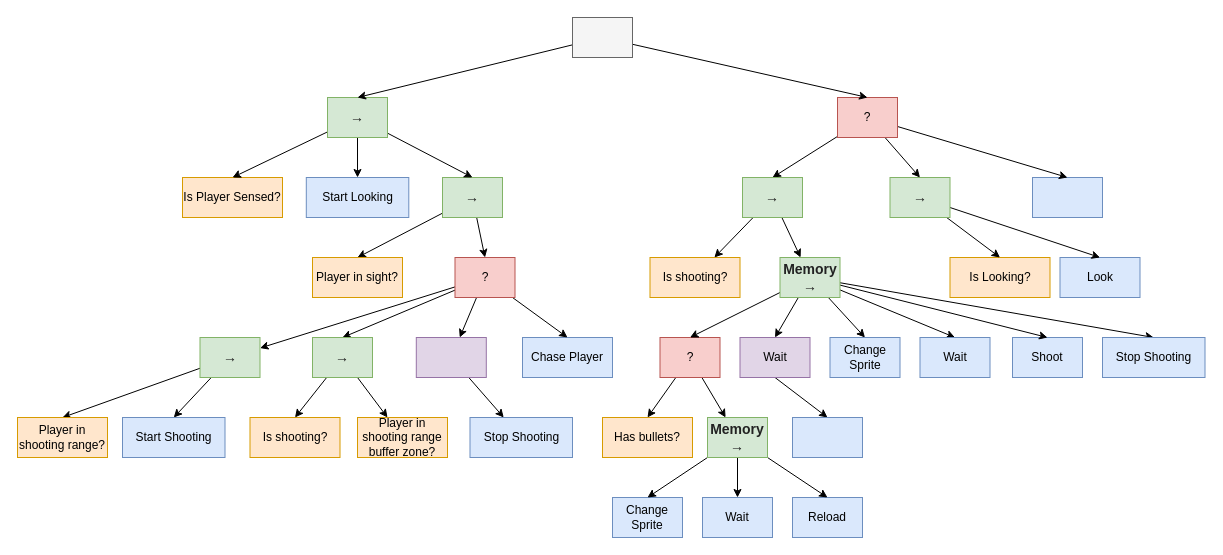
This 1223x555 diagram has some shape labels left out. Each missing label, with the centre of its shape:
Aim gun: the point at 827,437
All: the point at 602,37
Not: the point at 450,357
Patrol: the point at 1067,197
